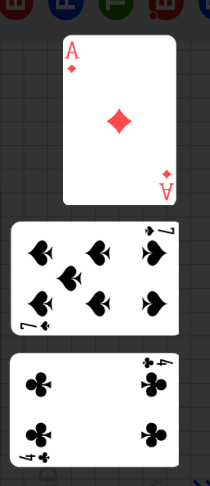4C: (18, 449, 52, 463)
AD: (66, 40, 83, 76), (157, 166, 173, 201)
